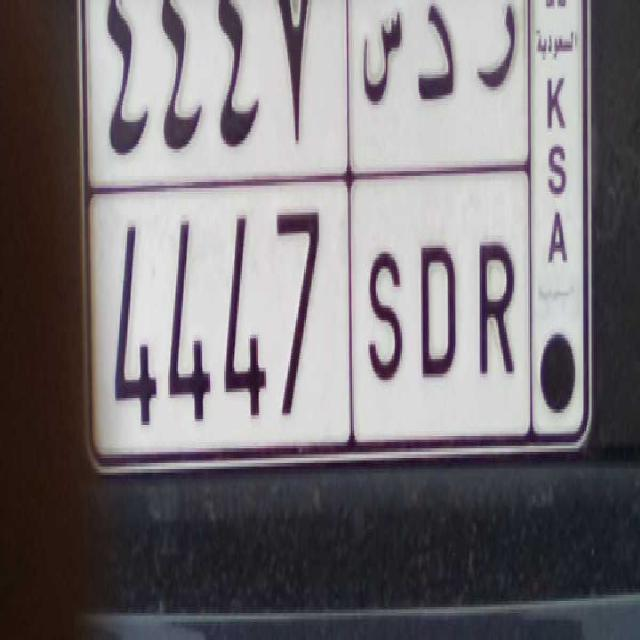license_plate: (102, 185, 526, 458)
